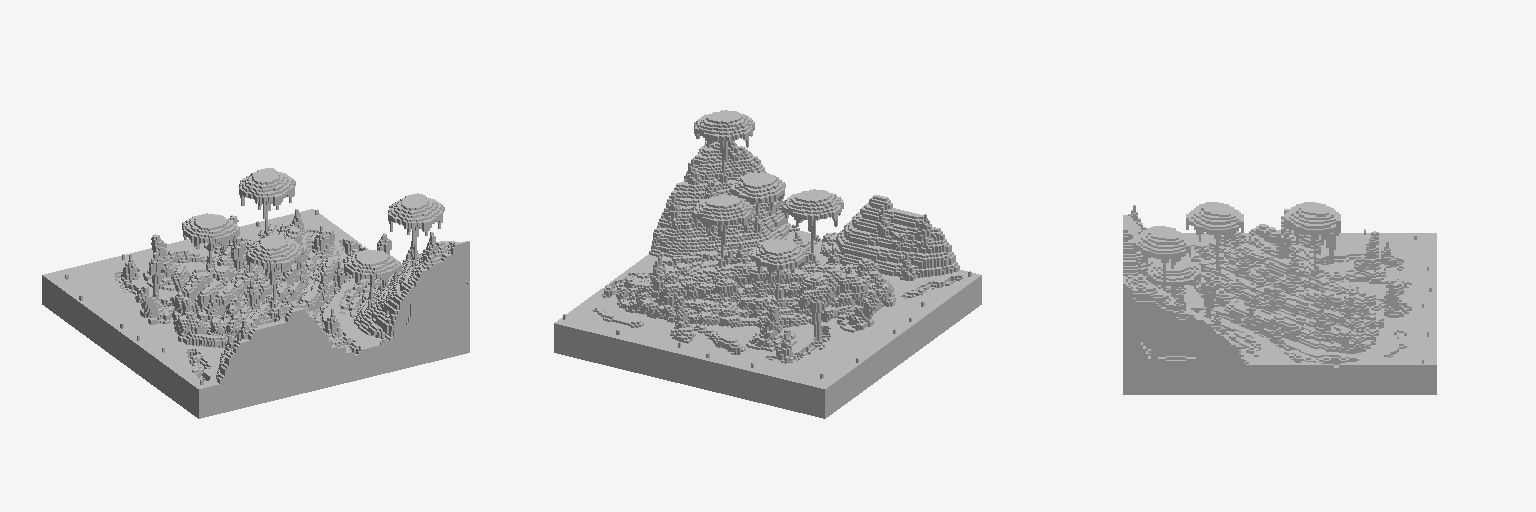
File: Map (13).obj
3 views of the same model, side by side, from view 1: azimuth 30°, elevation 25°; view 2: azimuth 150°, elevation 25°; view 3: azimuth 270°, elevation 25° (orthographic).
Parts seen in each view (by area): view 1: ALL MAP!!!!!!!!!!!-10; view 2: ALL MAP!!!!!!!!!!!-10; view 3: ALL MAP!!!!!!!!!!!-10.
Part boxes in pixels (bbox=[...]): ALL MAP!!!!!!!!!!!-10: bbox=[42, 168, 469, 418]; ALL MAP!!!!!!!!!!!-10: bbox=[554, 110, 981, 418]; ALL MAP!!!!!!!!!!!-10: bbox=[1123, 202, 1436, 394].
Bounding box in the file's own units: 125 × 64 × 125.